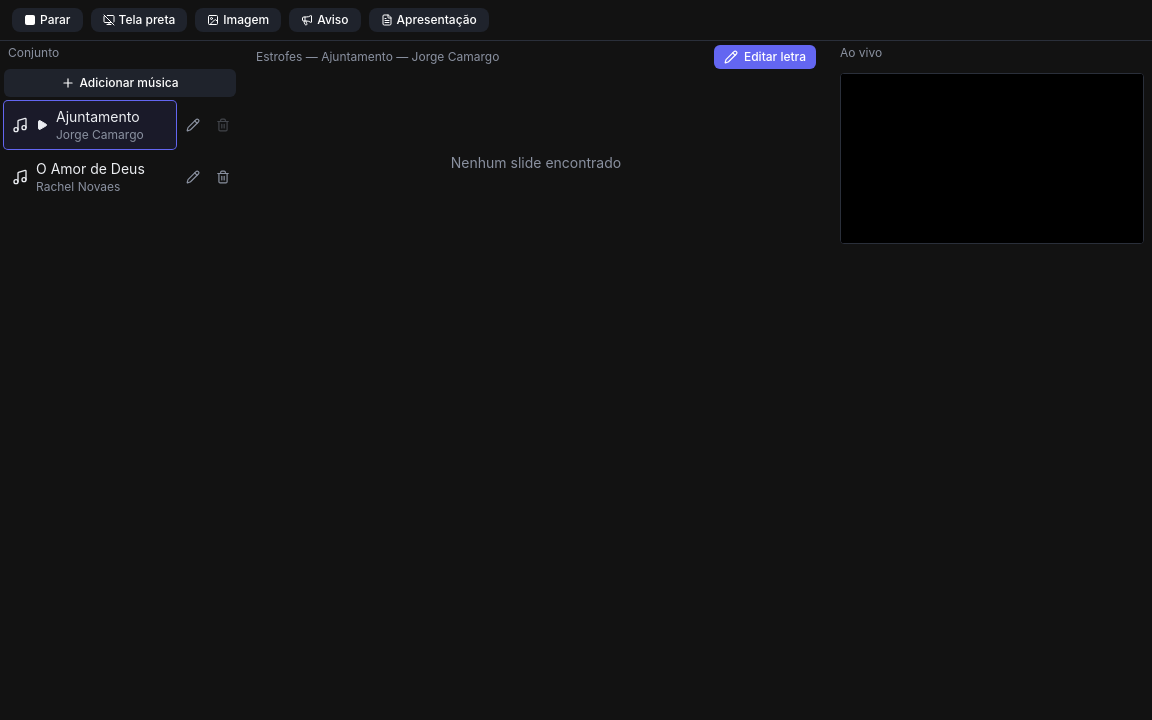
Live song row edit › renamed song relabels its row and the strophes header
Click the button named "Editar música O Amor de Deus" at [193, 177], box [180,164,206,190]
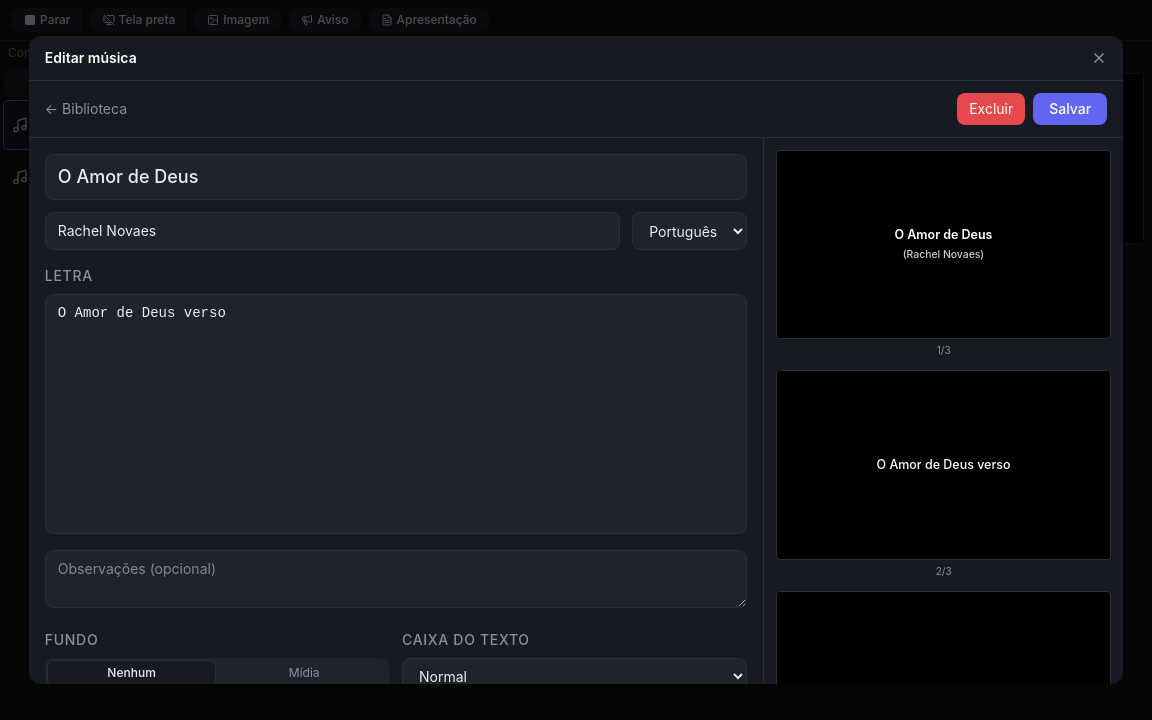
Expected: the 1st field showing "O Amor de Deus" is shown
Replace the text in the 1st field showing "O Amor de Deus" with "O Grande Amor" at [396, 177], box [45,154,747,200]
Replace the text in the 2nd field showing "Rachel Novaes" with "Coral" at [332, 231], box [45,212,620,250]
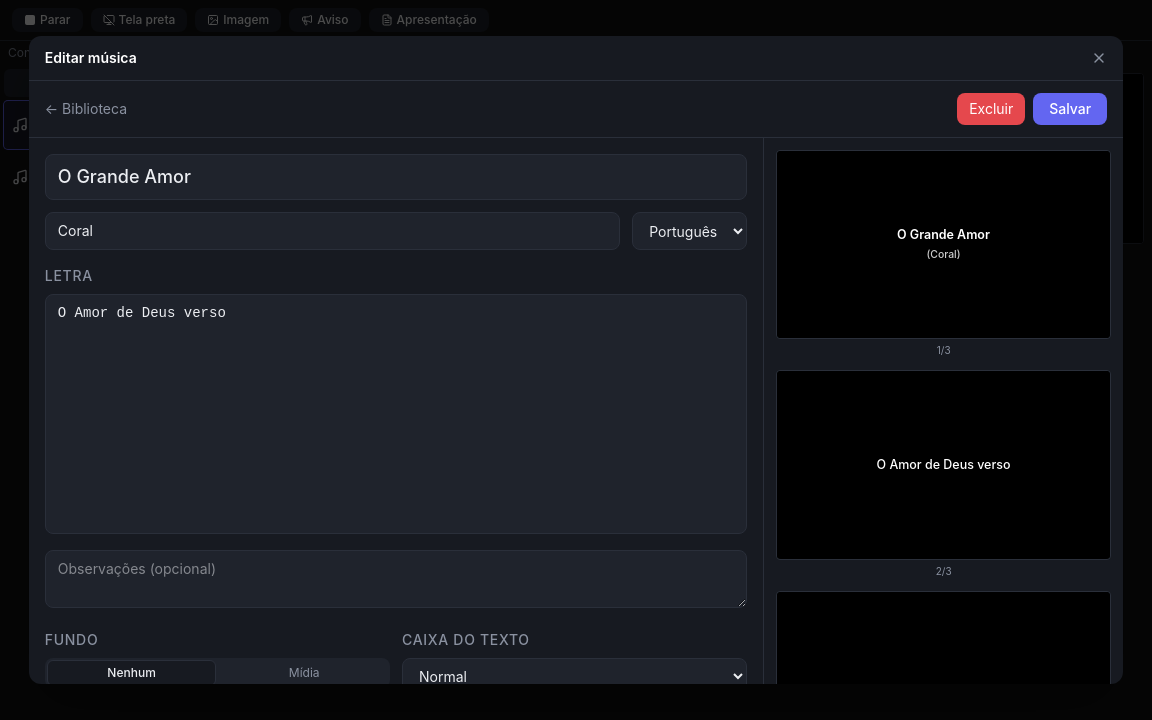
Click the button "Salvar" at [1070, 109], box [1033,93,1107,125]
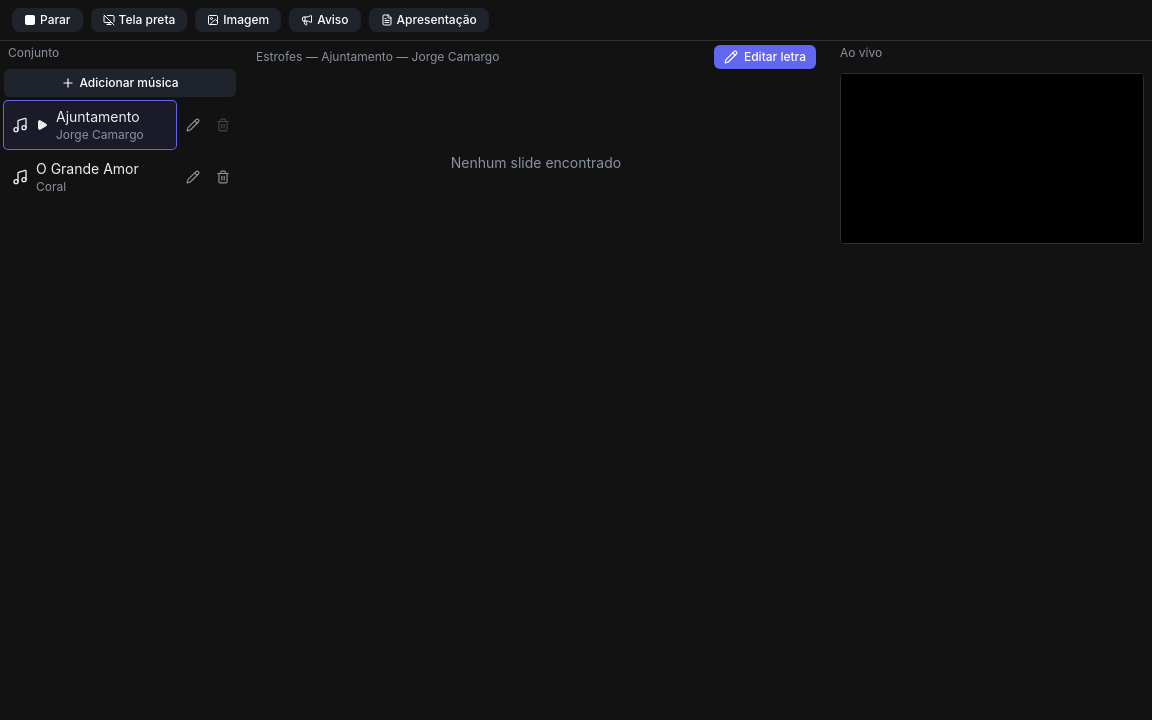
Expected: the element with test id "live-song-edit-modal" is gone
Expected: the text "O Grande Amor" is shown, [36,160,139,177]
Expected: the text "Coral" is shown, [36,179,66,194]
Click the button named "Editar música Ajuntamento" at [193, 125], box [180,112,206,138]
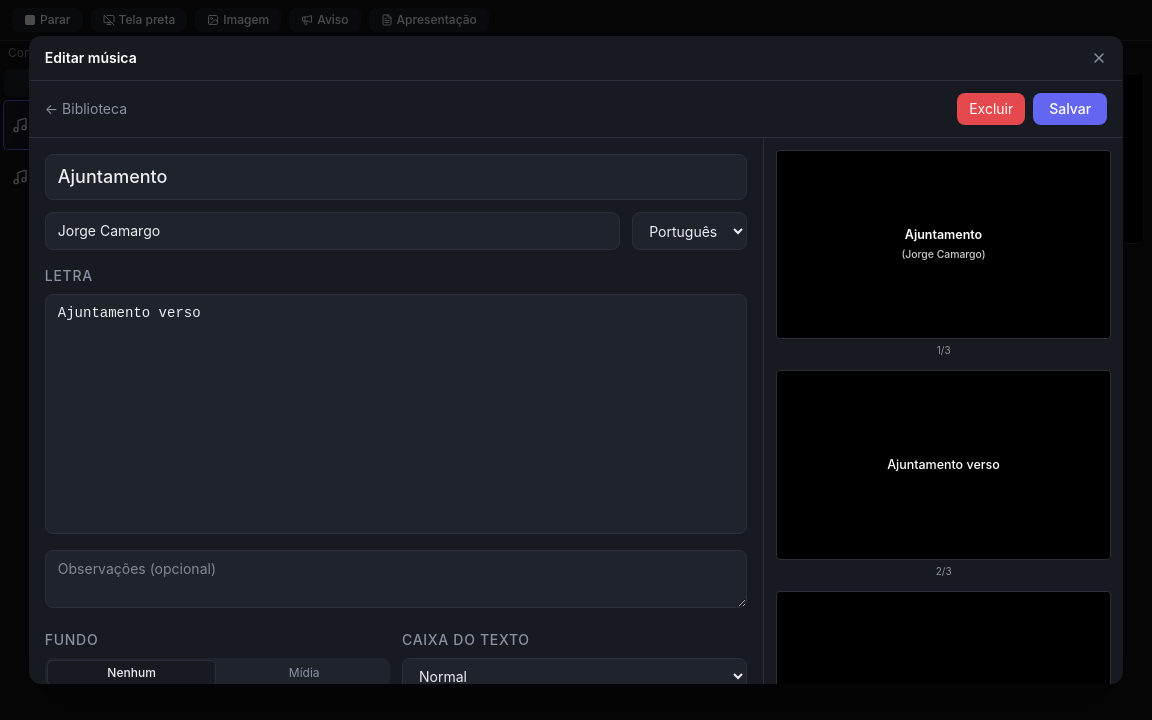
Expected: the 1st field showing "Ajuntamento" is shown
Replace the text in the 1st field showing "Ajuntamento" with "Ajuntamento Novo" at [396, 177], box [45,154,747,200]
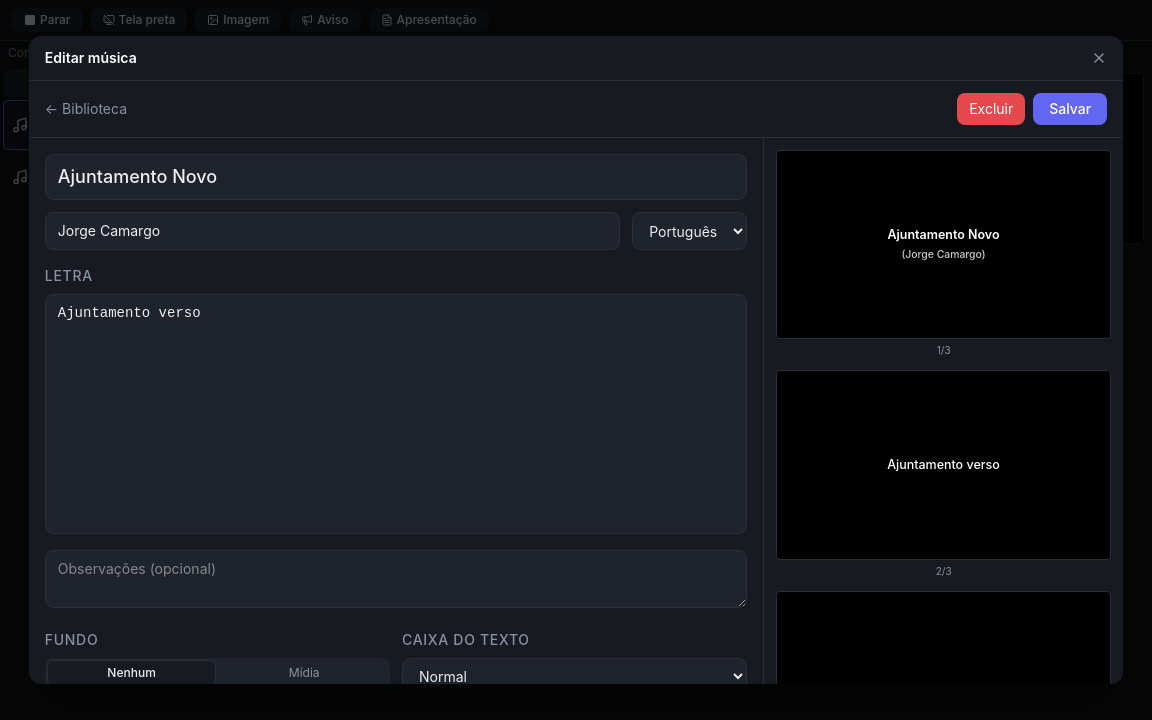
Click the button "Salvar" at [1070, 109], box [1033,93,1107,125]
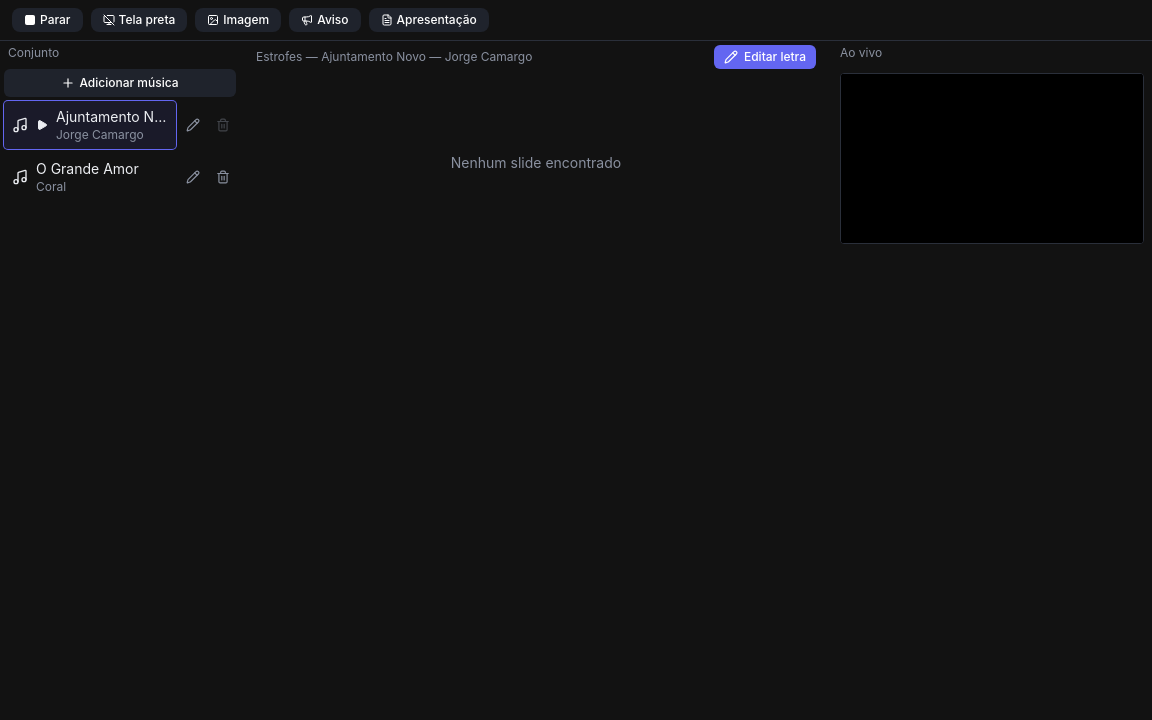
Expected: the text "Estrofes — Ajuntamento Novo — Jorge Camargo" is shown, [256,49,532,65]
Expected: the text "Ajuntamento Novo" is shown, [56,107,168,127]
